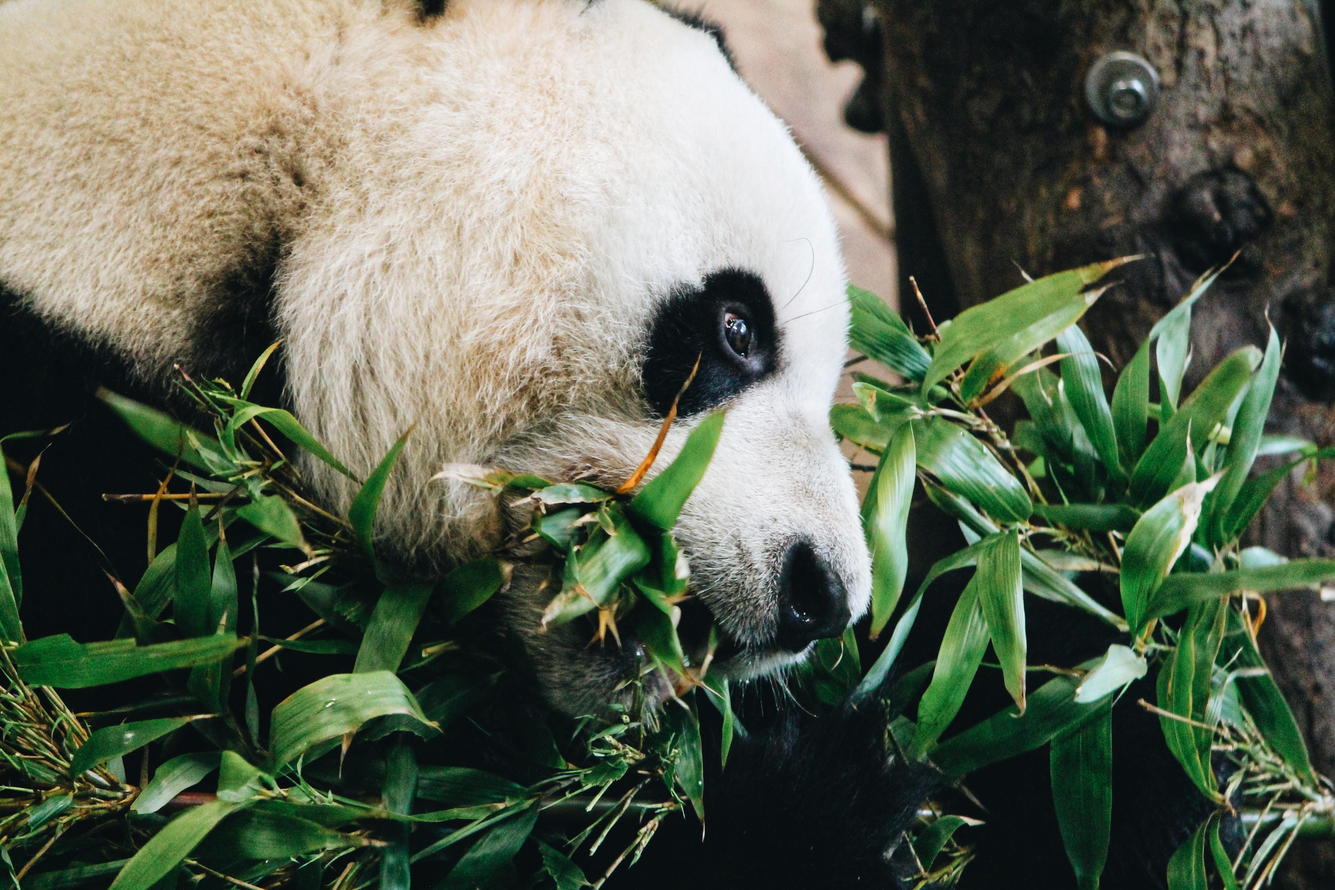panda: (0, 0, 880, 721)
